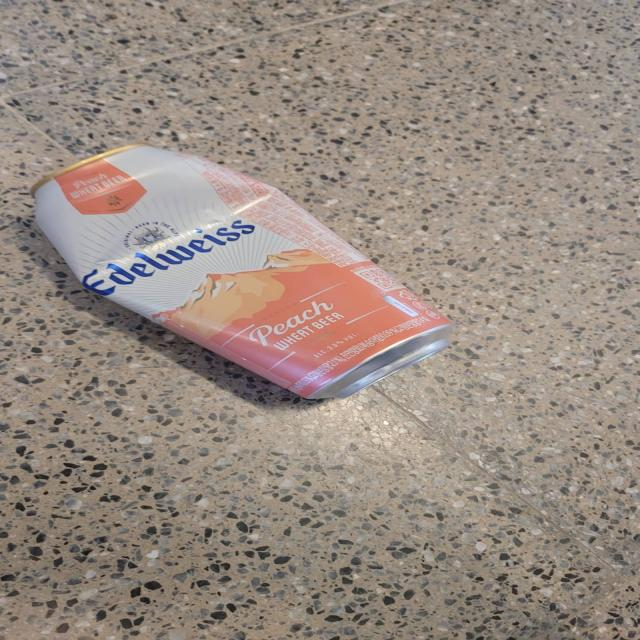Metal Cans: (19, 142, 454, 404)
